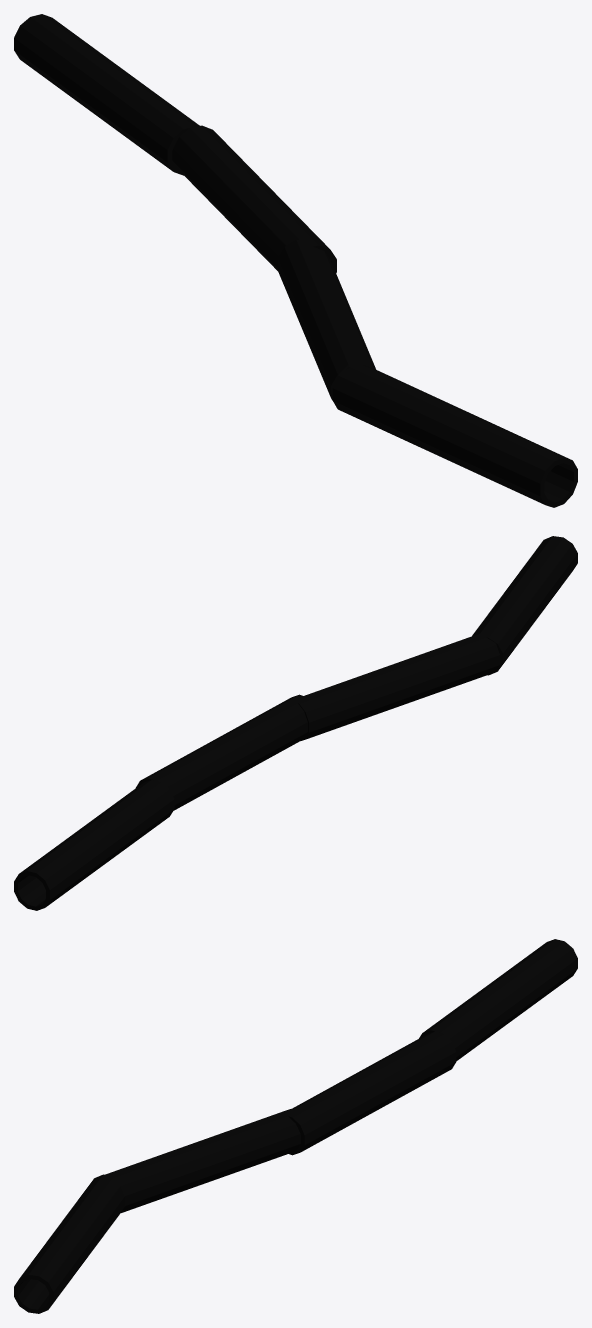
File: Wire.gltf
3 renders of one model, top to bottom at view 1: azimuth 30°, elevation 25°; view 2: azimuth 150°, elevation 25°; view 3: azimuth 330°, elevation 25°, orthographic. The views are drawn at different scales.
Visible parts, largest first — view 1: tube (×4); view 2: tube (×4); view 3: tube (×4).
Boxes of the visible parts, bbox=[...] form: tube (×4): bbox=[14, 14, 577, 507]; tube (×4): bbox=[14, 536, 577, 910]; tube (×4): bbox=[14, 939, 577, 1313].
Size of the model in its own units: 0.4789 by 0.125 by 2.87.
Materials: 4 (4 with a texture image).
